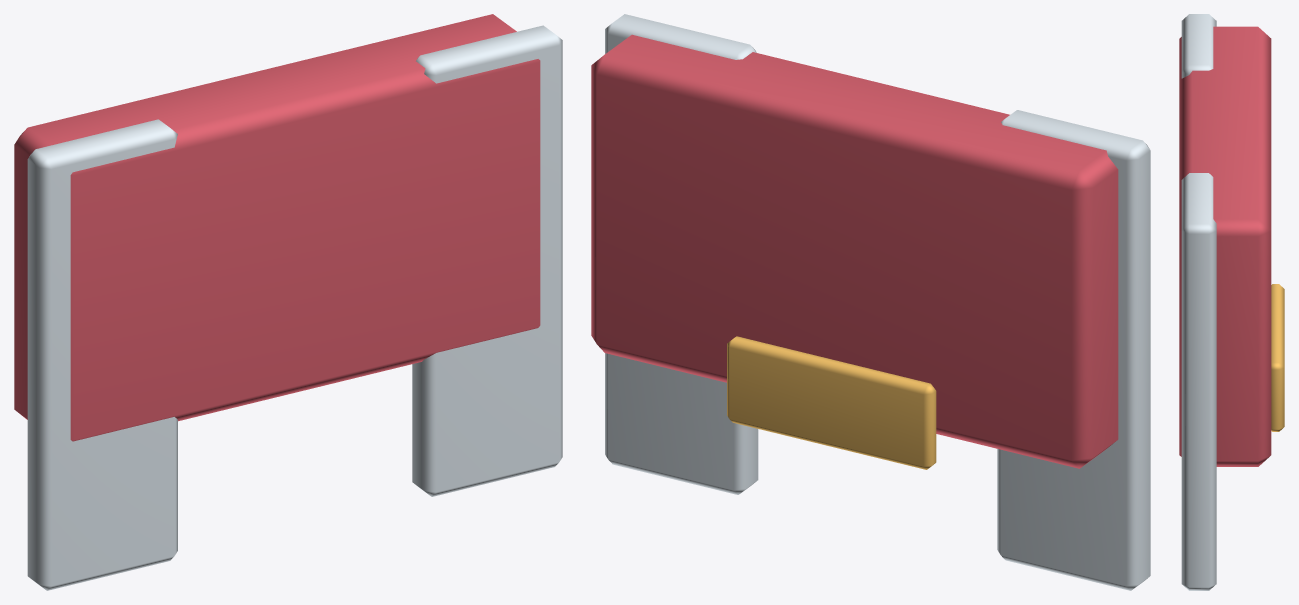
The model's file is splitter_nose.glb.
The picture shows the model from 3 angles, left to right: view 1: azimuth 30°, elevation 25°; view 2: azimuth 150°, elevation 25°; view 3: azimuth 270°, elevation 25°; orthographic projection. The views are drawn at different scales.
Parts seen in each view (by area): view 1: splitter | center keel, splitter | left blade, splitter | right blade; view 2: splitter | center keel, splitter | left blade, splitter | right blade, splitter | gold leading edge; view 3: splitter | center keel, splitter | right blade, splitter | gold leading edge, splitter | left blade.
Part boxes in pixels (x1=…): splitter | center keel: x1=14, y1=14, x2=540, y2=441; splitter | left blade: x1=27, y1=119, x2=177, y2=590; splitter | right blade: x1=412, y1=25, x2=562, y2=496; splitter | center keel: x1=591, y1=34, x2=1118, y2=468; splitter | left blade: x1=997, y1=110, x2=1150, y2=590; splitter | right blade: x1=605, y1=14, x2=758, y2=494; splitter | gold leading edge: x1=727, y1=336, x2=936, y2=469; splitter | center keel: x1=1179, y1=26, x2=1271, y2=466; splitter | right blade: x1=1181, y1=173, x2=1216, y2=590; splitter | gold leading edge: x1=1271, y1=284, x2=1284, y2=431; splitter | left blade: x1=1181, y1=14, x2=1216, y2=78.
Size of the model in its own units: 2.34 by 1.85 by 0.48.
